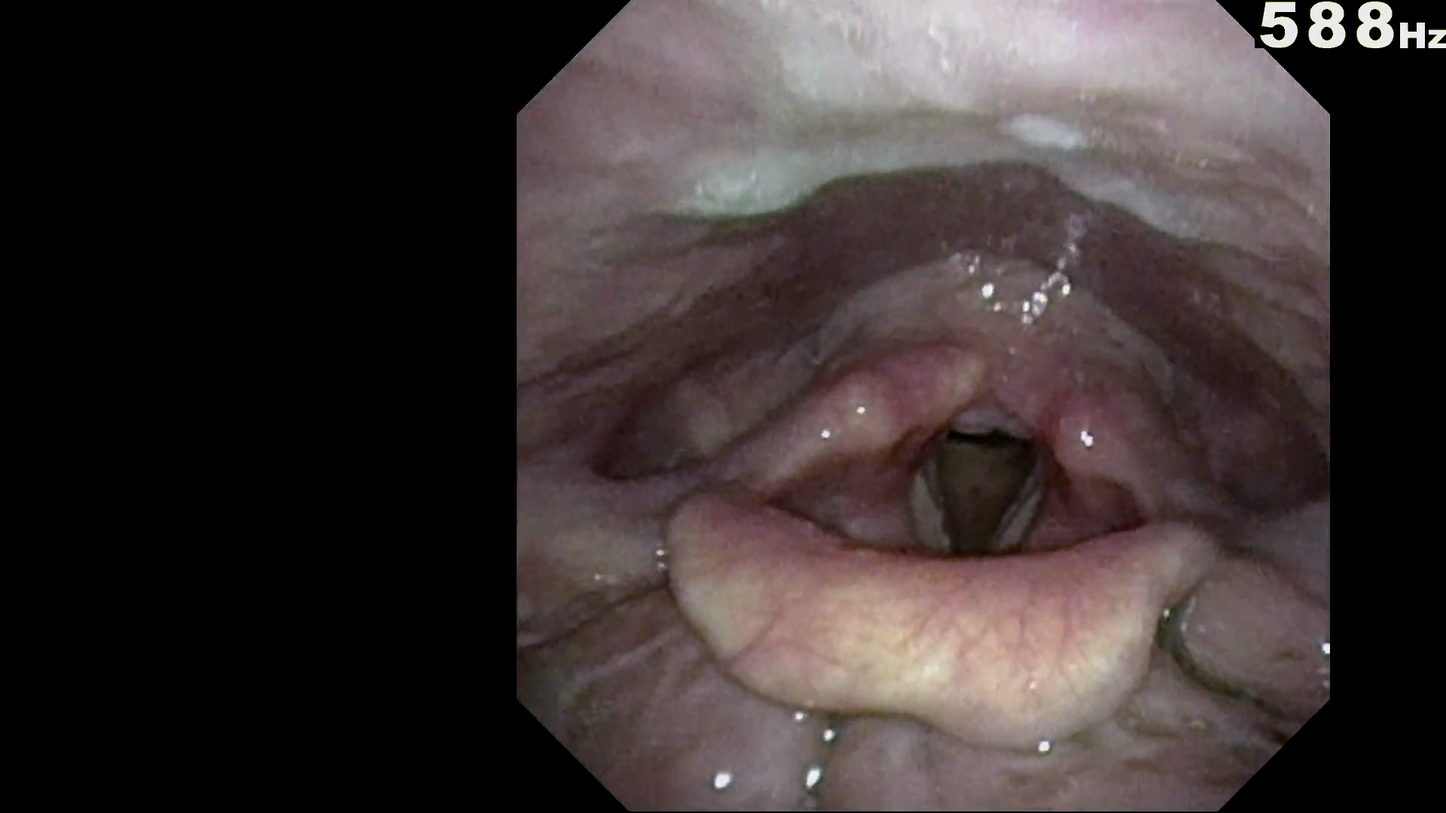epiglottis: (657, 524, 1201, 715)
trachea: (912, 421, 1036, 574)
